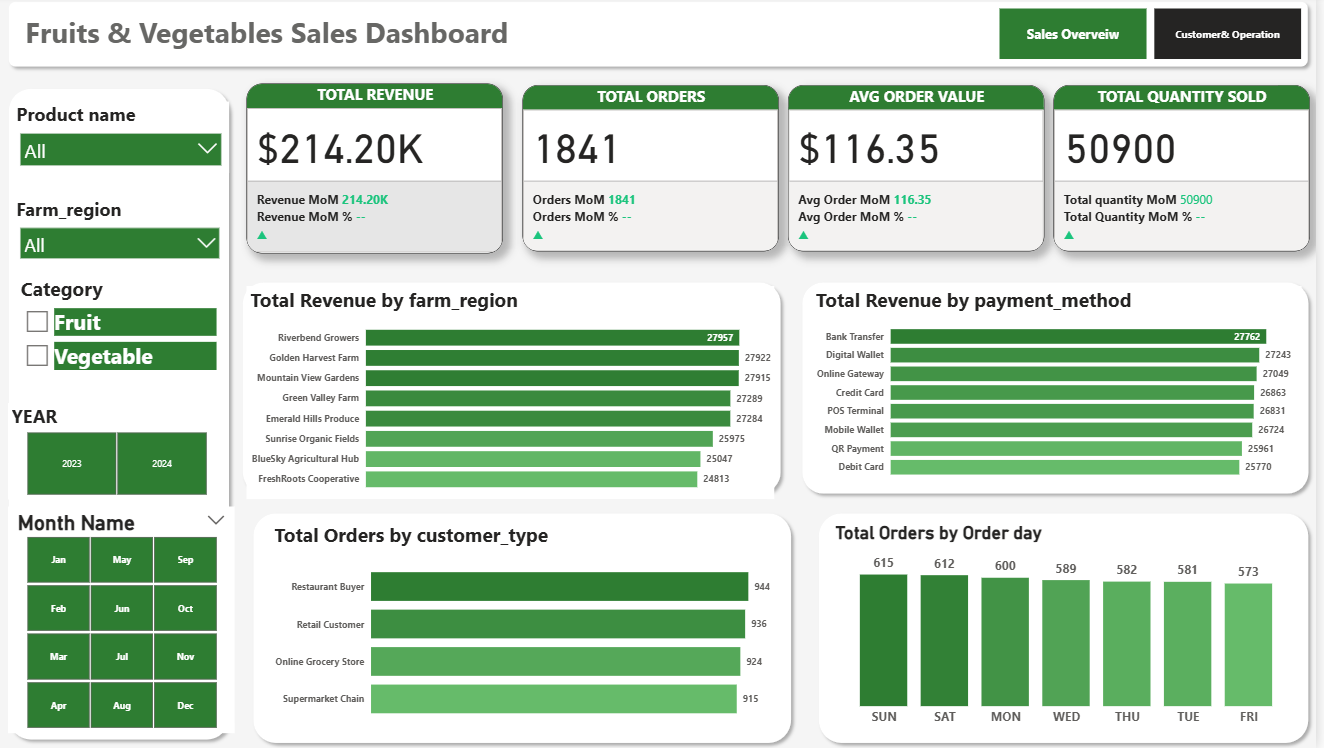

This screenshot's page, from the dashboard's own definition file:
{"tool":"powerbi","page":{"name":"Customer& Operation","canvas":[1750,1000],"ordinal":1},"visuals":[{"type":"shape","box":[7.8,116.3,310,881],"z":0},{"type":"shape","box":[1060.4,371.1,689.3,298.2],"z":1000},{"type":"shape","box":[318.1,371.1,731.2,298.2],"z":2000},{"type":"shape","box":[8.8,0,1740.8,103.8],"z":3000},{"type":"textbox","box":[33.8,17.9,715.8,67.6],"z":4000},{"type":"pageNavigator","box":[1330.6,18.1,400.5,67.2],"z":5000},{"type":"shape","box":[331.4,678.2,731.2,322.5],"z":6000},{"type":"shape","box":[1082.5,678.2,667.2,322.5],"z":7000},{"type":"clusteredBarChart","fields":{"Y":["public fruits_vegetables_analysis.Total Revenue"],"Category":["public fruits_vegetables_analysis.farm_region"]},"box":[331.4,386.6,700.3,282.8],"z":8000},{"type":"clusteredBarChart","fields":{"Y":["public fruits_vegetables_analysis.Total Revenue"],"Category":["public fruits_vegetables_analysis.payment_method"]},"box":[1082.5,386.6,649.5,265.1],"z":9000},{"type":"clusteredBarChart","fields":{"Y":["public fruits_vegetables_analysis.Total Orders"],"Category":["public fruits_vegetables_analysis.customer_type"]},"box":[364.5,698.1,667.2,280.6],"z":10000},{"type":"clusteredColumnChart","fields":{"Y":["public fruits_vegetables_analysis.Total Orders"],"Category":["public fruits_vegetables_analysis.Order day"]},"box":[1109,698.1,623,280.6],"z":11000},{"type":"slicer","title":"Product name","fields":{"Values":["public fruits_vegetables_analysis.product_name"]},"box":[22.1,141.4,287.2,95],"z":12000},{"type":"slicer","title":"Farm_region","fields":{"Values":["public fruits_vegetables_analysis.farm_region"]},"box":[22.1,267.3,285,103.8],"z":13000},{"type":"slicer","title":"Category","fields":{"Values":["public fruits_vegetables_analysis.category"]},"box":[28.7,371.1,269.5,170.1],"z":14000},{"type":"slicer","title":"YEAR","fields":{"Values":["Date Table.Year"]},"box":[15.5,541.2,287.2,128.1],"z":15000},{"type":"slicer","fields":{"Values":["Date Table.Month Name"]},"box":[15.5,678.2,300.4,300.4],"z":16000},{"type":"cardVisual","title":"TOTAL REVENUE","fields":{"Data":["public fruits_vegetables_analysis.Total Revenue"]},"box":[331.4,117.1,340.2,225.3],"z":17000},{"type":"cardVisual","title":"TOTAL ORDERS","fields":{"Data":["public fruits_vegetables_analysis.Total Orders"]},"box":[697.4,119.3,340.2,220.9],"z":18000},{"type":"cardVisual","title":"AVG ORDER VALUE","fields":{"Data":["public fruits_vegetables_analysis.Avg order value"]},"box":[1050.1,119.3,340.2,220.9],"z":19000},{"type":"cardVisual","title":"TOTAL QUANTITY SOLD","fields":{"Data":["public fruits_vegetables_analysis.Total Quantity Sold"]},"box":[1402.8,119.3,340,220.9],"z":20000}]}

Visuals, with their boxes in screenshot pixels (x1, y1, x2, y2), scaled from the page's 1750x1000 canvas onto the 1324x748 screenshot:
shape: box=[6, 87, 240, 746]
shape: box=[802, 278, 1323, 501]
shape: box=[241, 278, 794, 501]
shape: box=[7, 0, 1323, 78]
textbox: box=[26, 13, 567, 64]
pageNavigator: box=[1007, 14, 1310, 64]
shape: box=[251, 507, 804, 747]
shape: box=[819, 507, 1323, 747]
clusteredBarChart - public fruits_vegetables_analysis.Total Revenue x public fruits_vegetables_analysis.farm_region: box=[251, 289, 781, 501]
clusteredBarChart - public fruits_vegetables_analysis.Total Revenue x public fruits_vegetables_analysis.payment_method: box=[819, 289, 1310, 487]
clusteredBarChart - public fruits_vegetables_analysis.Total Orders x public fruits_vegetables_analysis.customer_type: box=[276, 522, 781, 732]
clusteredColumnChart - public fruits_vegetables_analysis.Total Orders x public fruits_vegetables_analysis.Order day: box=[839, 522, 1310, 732]
"Product name" slicer: box=[17, 106, 234, 177]
"Farm_region" slicer: box=[17, 200, 232, 278]
"Category" slicer: box=[22, 278, 226, 405]
"YEAR" slicer: box=[12, 405, 229, 501]
slicer - Date Table.Month Name: box=[12, 507, 239, 732]
"TOTAL REVENUE" cardVisual: box=[251, 88, 508, 256]
"TOTAL ORDERS" cardVisual: box=[528, 89, 785, 254]
"AVG ORDER VALUE" cardVisual: box=[794, 89, 1052, 254]
"TOTAL QUANTITY SOLD" cardVisual: box=[1061, 89, 1319, 254]
